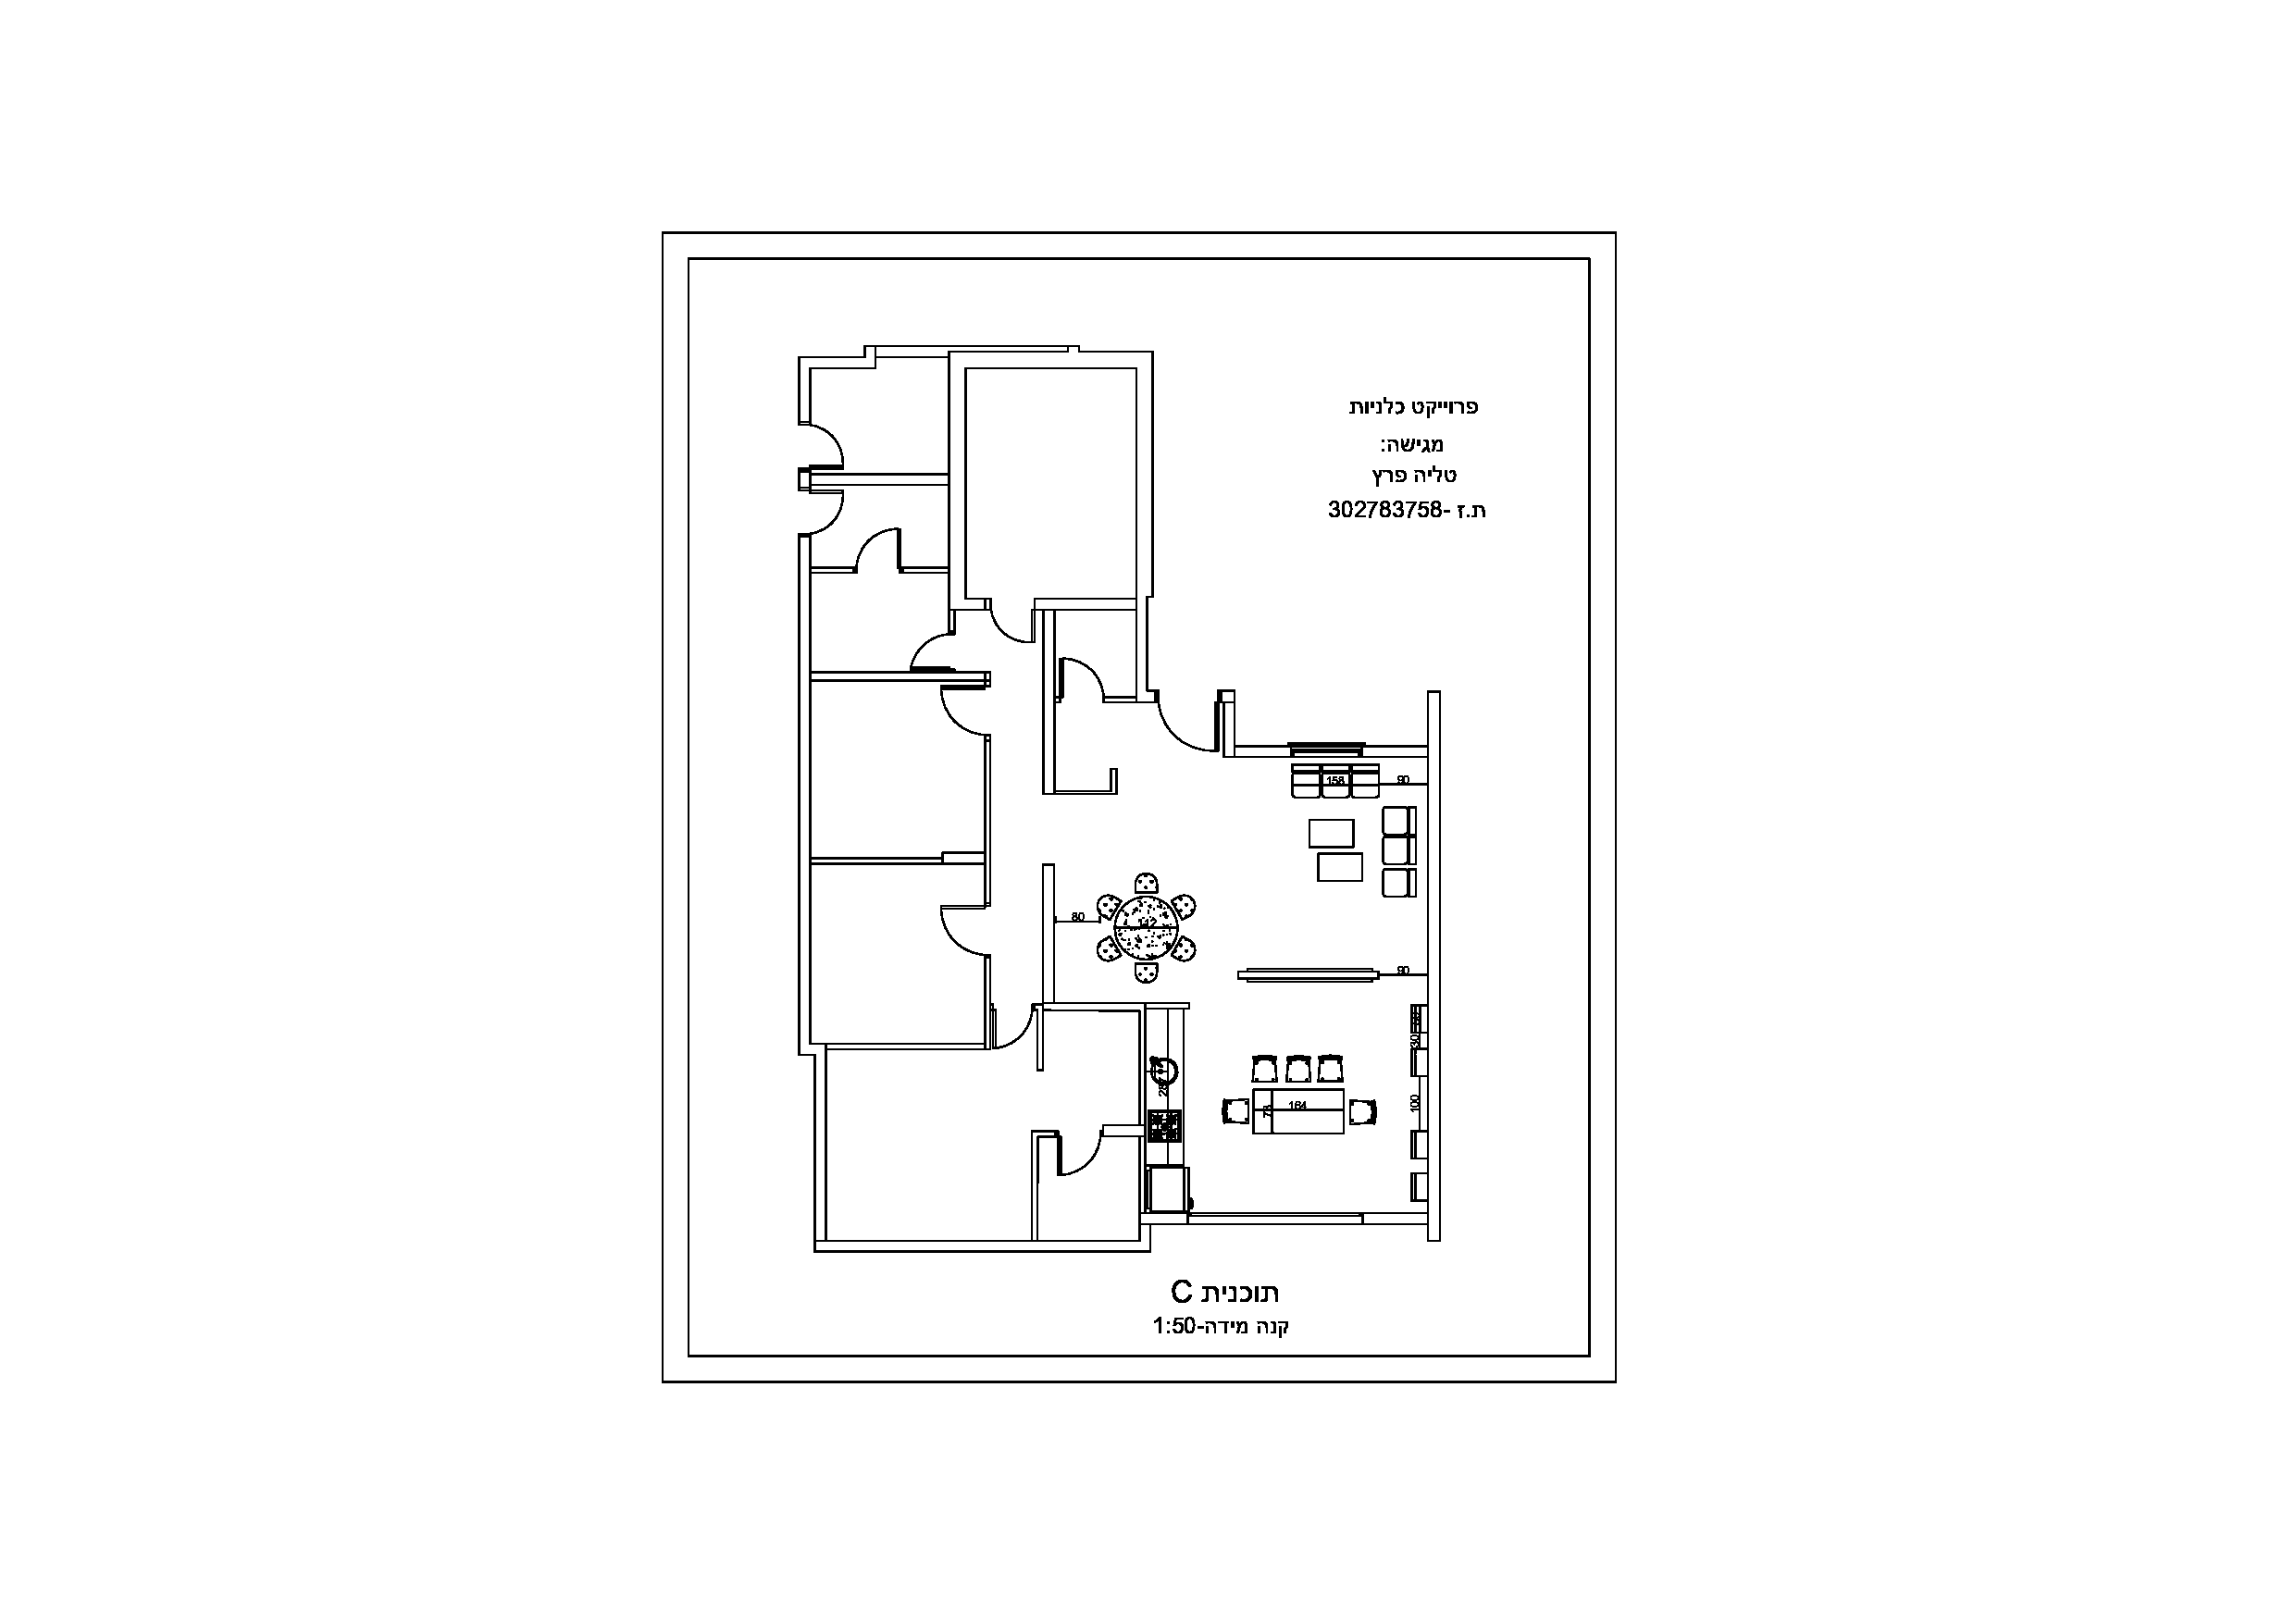door: (1154, 710, 1223, 768), (912, 903, 980, 961), (852, 511, 908, 564), (1058, 638, 1107, 696), (931, 682, 978, 739), (982, 613, 1040, 655), (815, 420, 859, 474), (1049, 1145, 1110, 1184), (989, 1015, 1031, 1064)
wall: (1586, 232, 1618, 1382), (662, 230, 687, 1384), (664, 1354, 1614, 1384), (664, 232, 1611, 260), (1428, 687, 1439, 1237), (799, 536, 808, 1057), (1135, 351, 1152, 595), (950, 351, 1154, 369), (950, 348, 963, 608), (815, 1040, 826, 1251)
